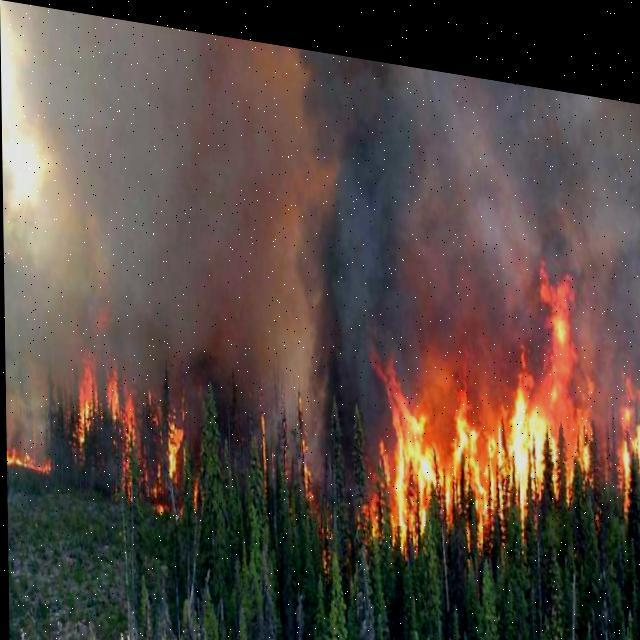Fire: (382, 240, 638, 550), (82, 342, 192, 484)
